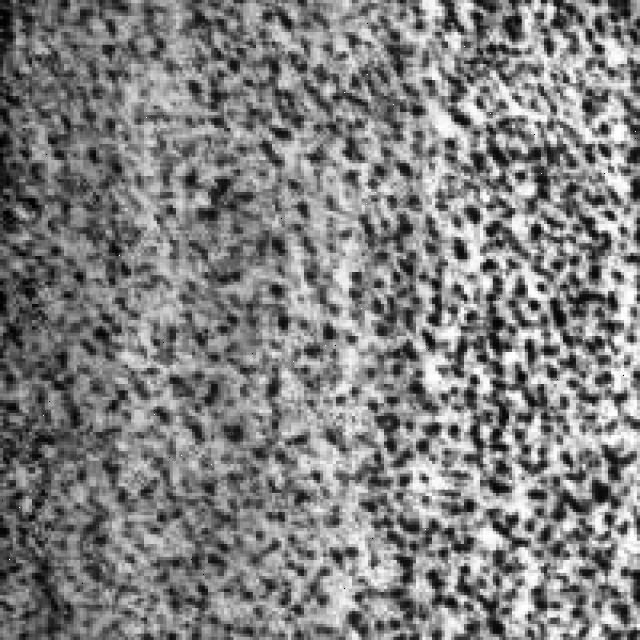Rolled_in_Scale: (19, 6, 640, 621)
